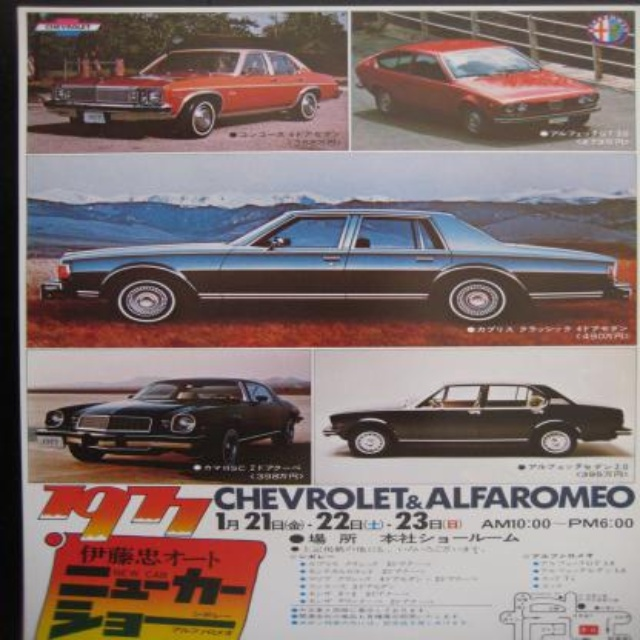Car: (52, 188, 596, 335), (32, 370, 305, 468), (42, 48, 340, 137), (352, 35, 602, 137), (322, 382, 633, 457)
